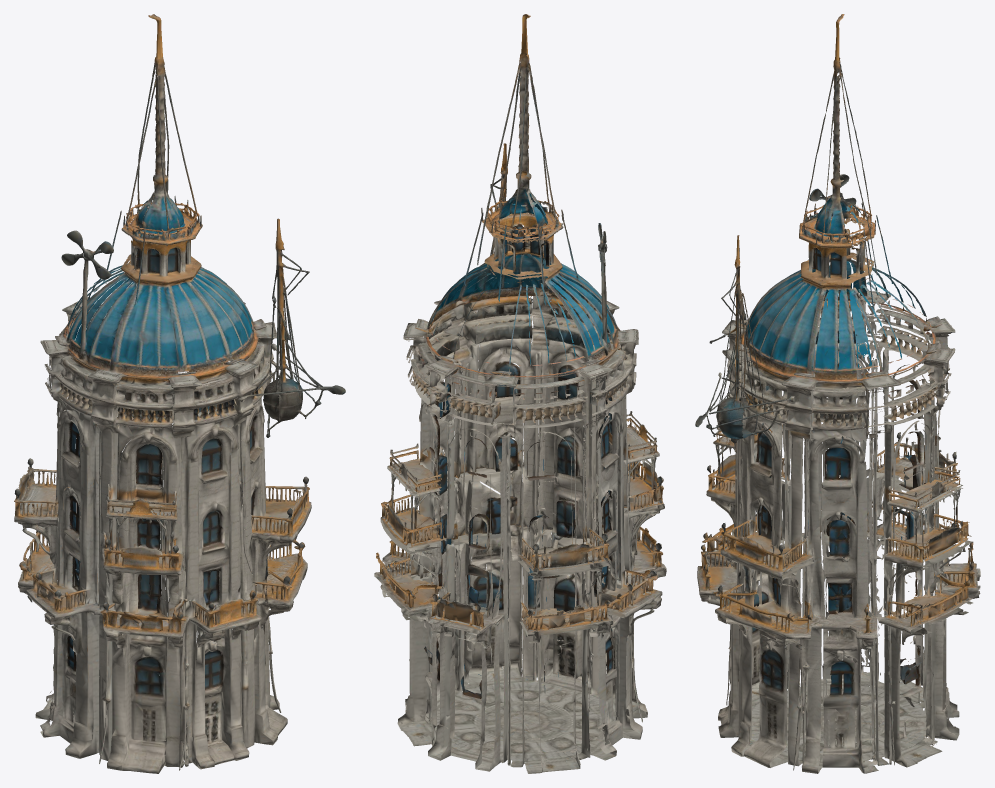
File: sky_block.glb
The picture shows the model from 3 angles, left to right: view 1: azimuth 30°, elevation 25°; view 2: azimuth 150°, elevation 25°; view 3: azimuth 270°, elevation 25°; orthographic projection.
Bounding box in the file's own units: 0.6977 × 1.9 × 0.6955.
1 material, 1 textured.
